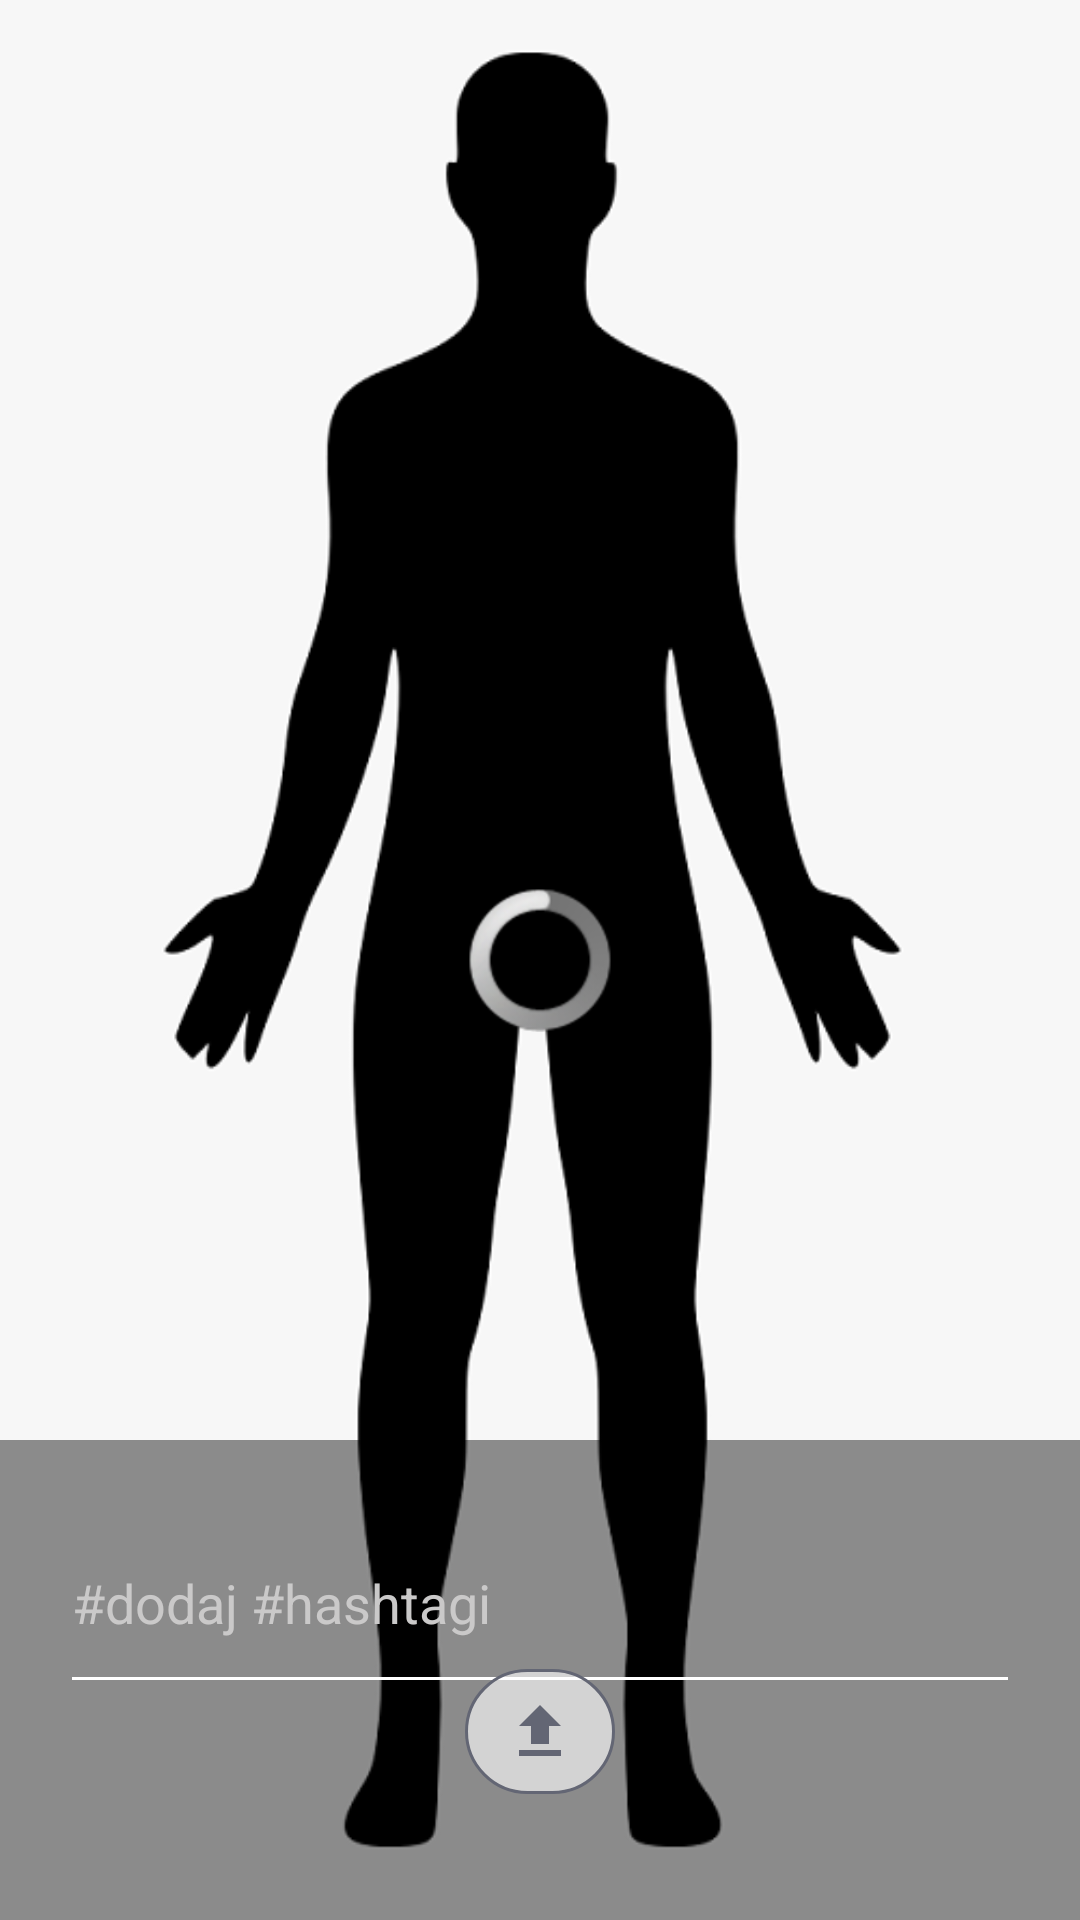

Icon click points for this 1080*1920 phone screenshot, format (x,y):
file upload: (540,1731)
